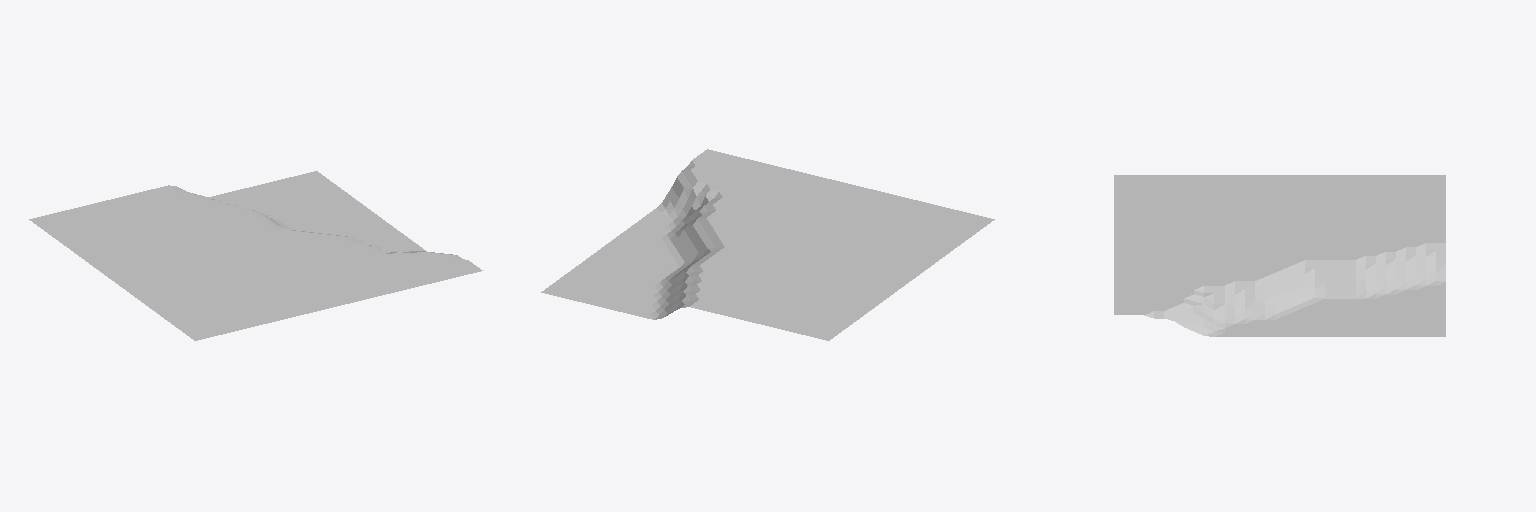
The model's file is ground.obj.
The picture shows the model from 3 angles: view 1: azimuth 30°, elevation 25°; view 2: azimuth 150°, elevation 25°; view 3: azimuth 270°, elevation 25°; orthographic projection.
Visible parts, largest first — view 1: Plane.001; view 2: Plane.001; view 3: Plane.001.
Part boxes in pixels (x1,y1,x2,y2): Plane.001: (29, 171, 482, 340); Plane.001: (541, 149, 994, 340); Plane.001: (1114, 175, 1445, 336).
Bounding box in the file's own units: 96 × 6.9 × 96.